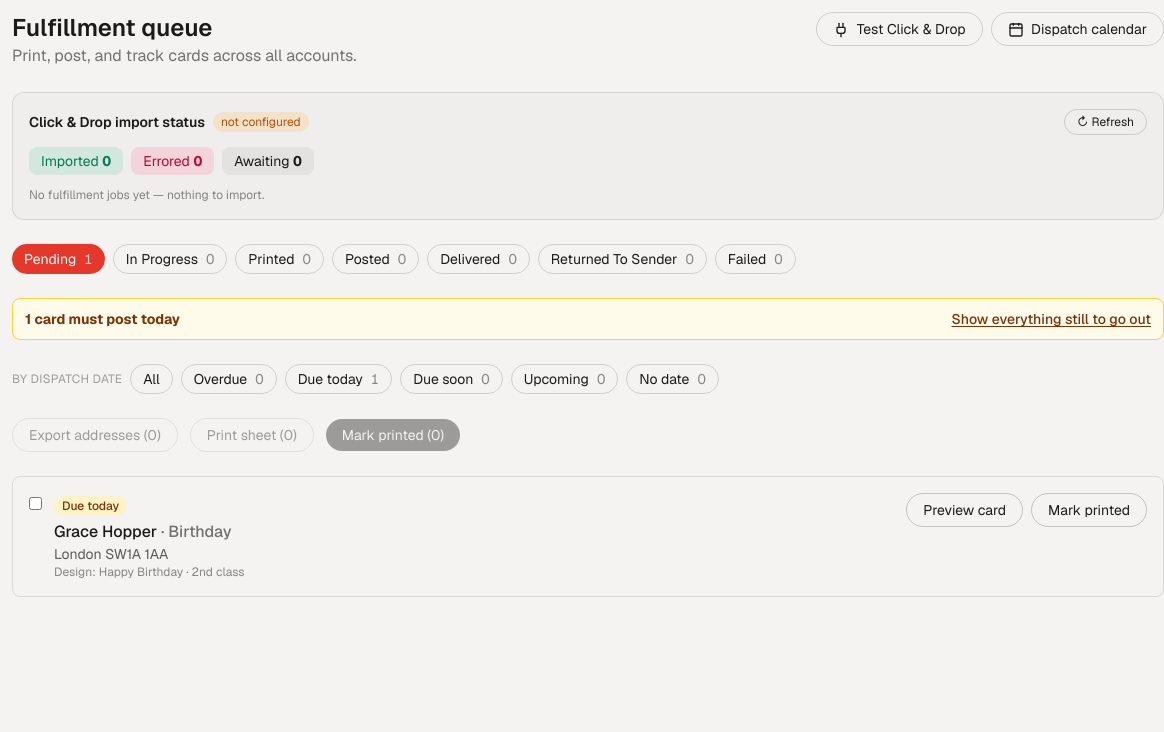
Test case: FulfillmentClient — advancing inside a deadline view › removes a card from a pinned tab even when its new status is still open
Click the button "Mark printed" at (1089, 510), box [1031,493,1147,527]
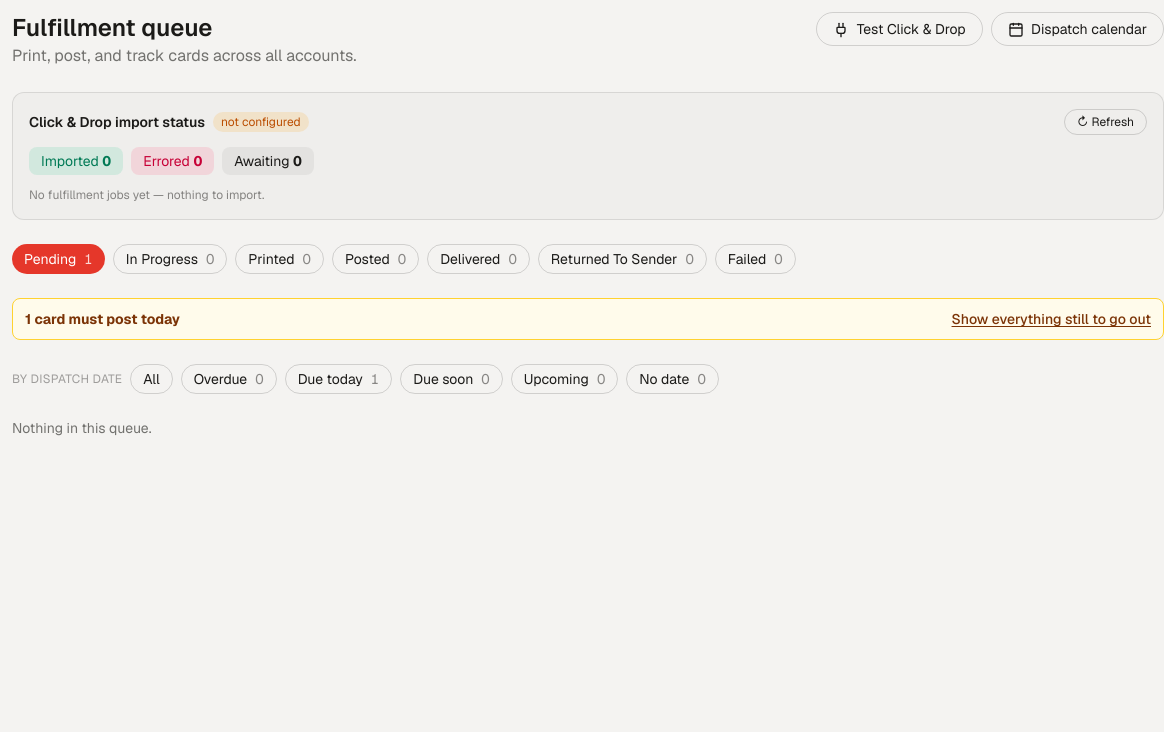
Expected: the text "Nothing in this queue." is shown, [12,419,152,437]
